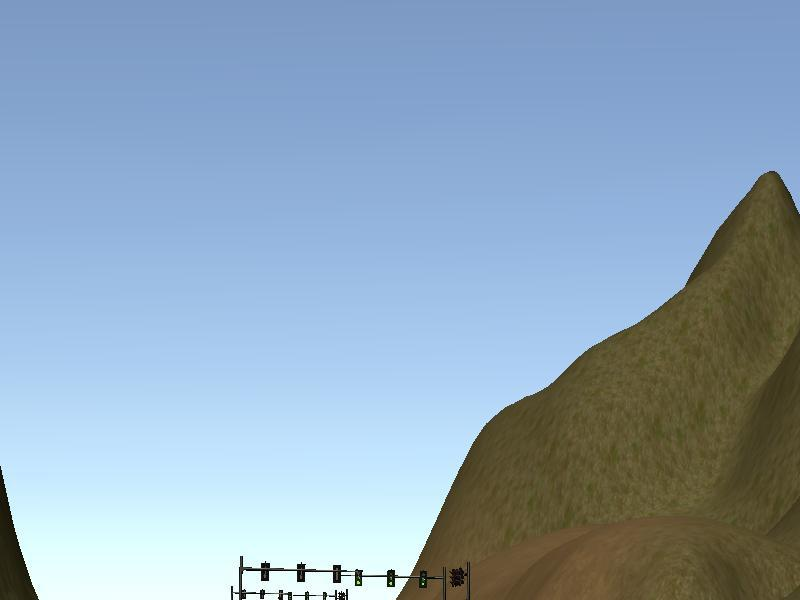Green: (385, 568, 396, 587), (353, 567, 363, 587), (418, 568, 427, 587)
